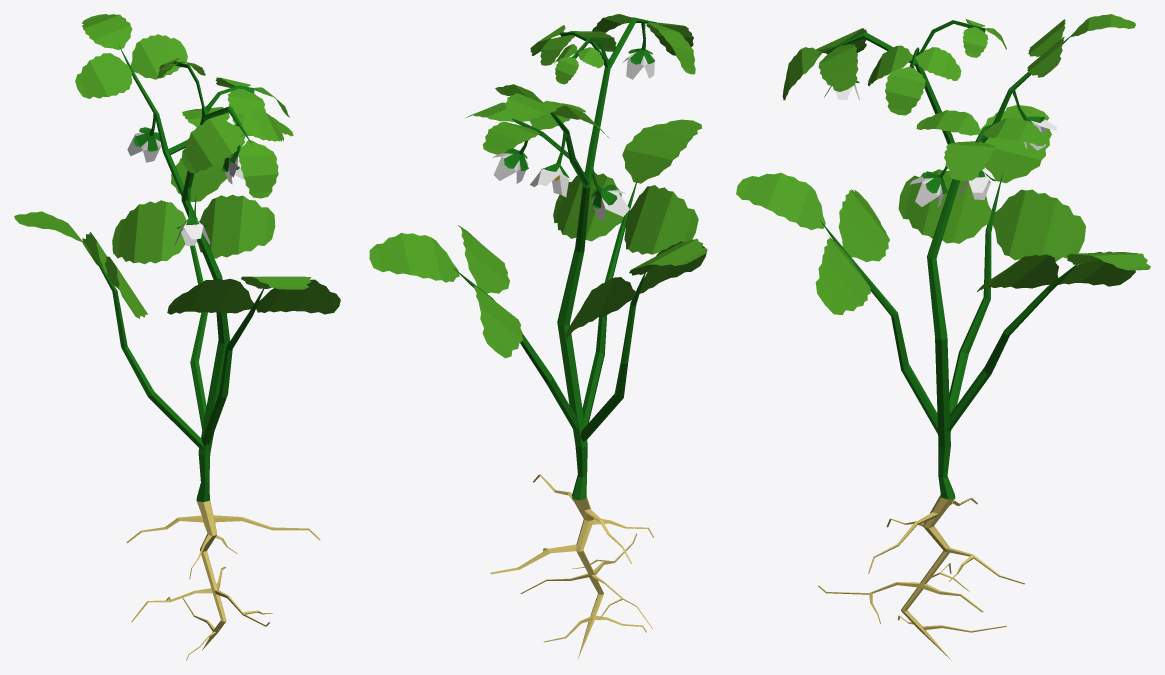
File: strawberry_2.glb
3 views of the same model, side by side, from view 1: azimuth 30°, elevation 25°; view 2: azimuth 150°, elevation 25°; view 3: azimuth 270°, elevation 25° (orthographic). The views are drawn at different scales.
Visible parts, largest first — view 1: NurbsPath.015; view 2: NurbsPath.015; view 3: NurbsPath.015.
Boxes of the visible parts, box(x1,y1,x2,y2) form: NurbsPath.015: box(14, 14, 340, 660); NurbsPath.015: box(369, 14, 707, 659); NurbsPath.015: box(736, 14, 1150, 660).
Bounding box in the file's own units: 7.01 × 14.9 × 8.83.
Materials: 1 (1 with a texture image).
